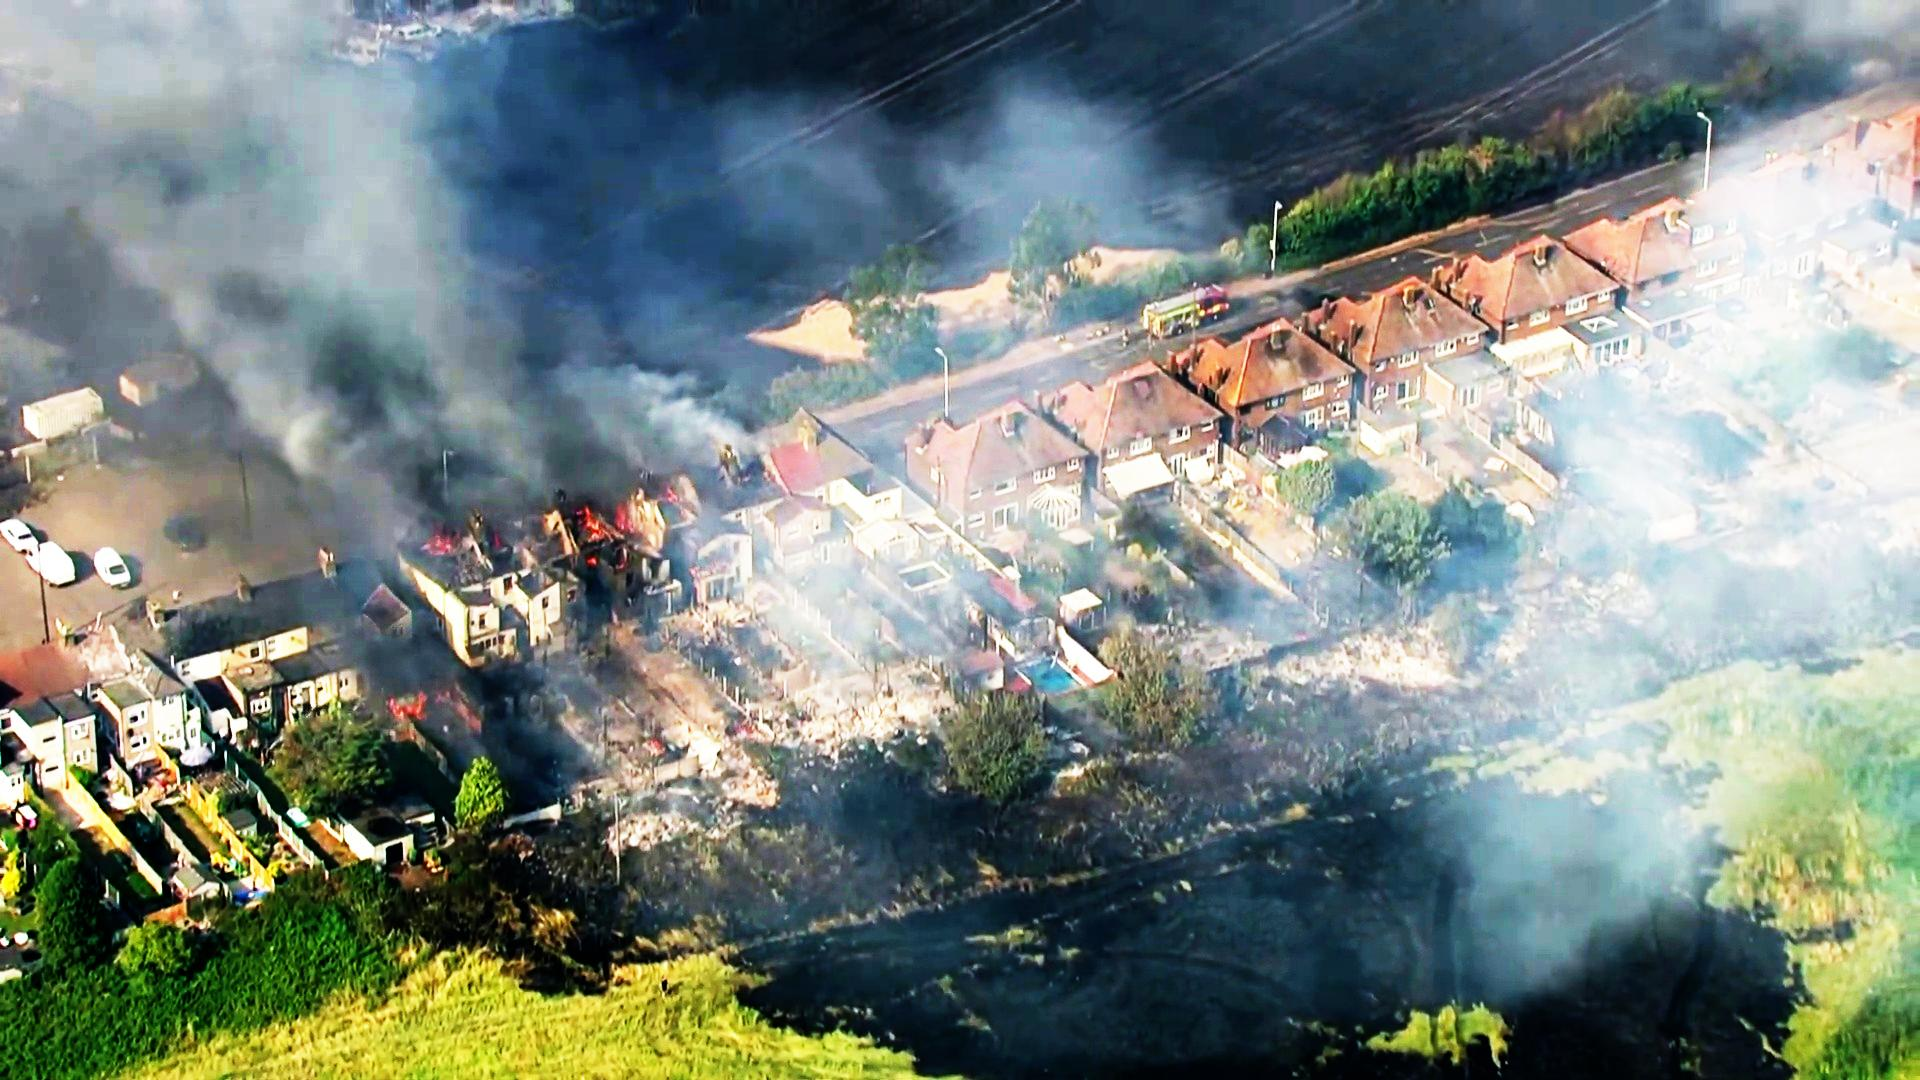smoke: (241, 216, 538, 508), (0, 0, 306, 273)
